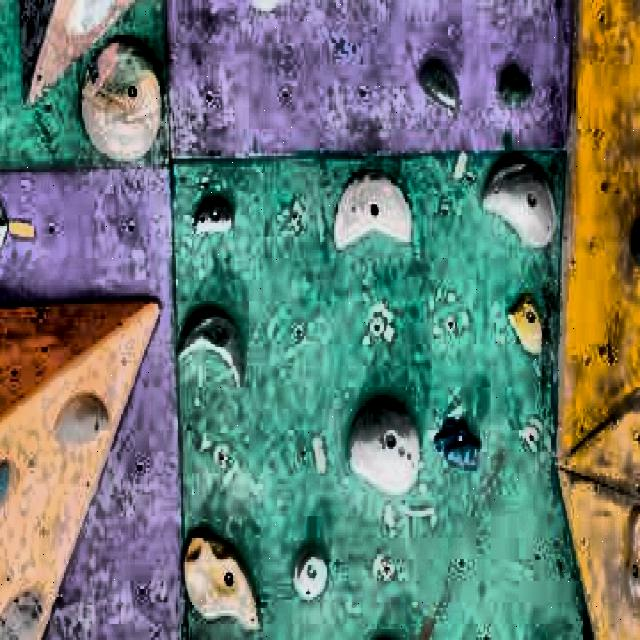Hold: (82, 40, 162, 161), (183, 532, 260, 629), (482, 159, 556, 247), (334, 172, 411, 247), (178, 312, 244, 387), (55, 393, 110, 446), (436, 419, 480, 471), (508, 293, 544, 355), (0, 592, 43, 640), (420, 59, 459, 110), (293, 546, 327, 600), (626, 506, 640, 618), (69, 0, 116, 32), (500, 62, 532, 108), (194, 199, 233, 234), (0, 460, 11, 507), (252, 0, 298, 11), (631, 219, 640, 266)
start_tag: (7, 219, 33, 238)
